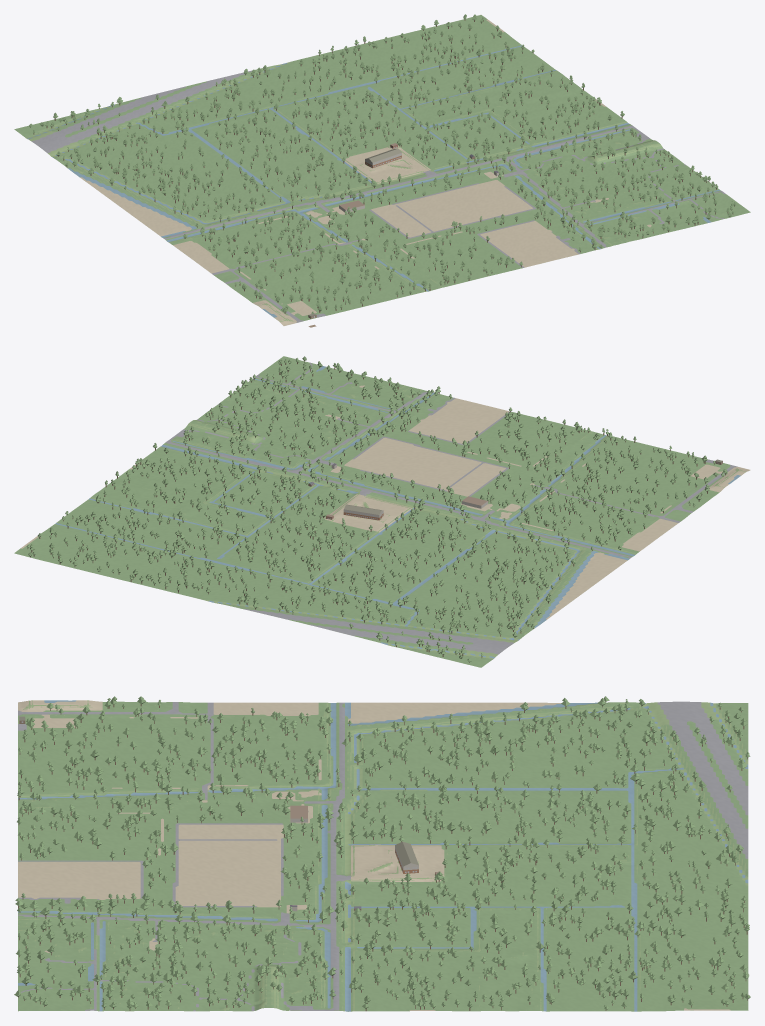
File: bosven-veghel_x331_y809.glb
3 renders of one model, top to bottom at view 1: azimuth 30°, elevation 25°; view 2: azimuth 150°, elevation 25°; view 3: azimuth 270°, elevation 25°, orthographic. The views are drawn at different scales.
Parts seen in each view (by area): view 1: class:green, class:tree, class:sand, class:road, class:grass, class:water, class:trunk; view 2: class:green, class:tree, class:sand, class:grass, class:road, class:water, class:trunk; view 3: class:green, class:tree, class:sand, class:road, class:grass, class:water, class:trunk, class:roof.
Part boxes in pixels (x1,y1,x2,y2): class:green: (14,15,750,320); class:tree: (28,14,736,313); class:sand: (80,19,651,325); class:road: (32,70,725,322); class:grass: (25,49,723,321); class:water: (27,45,720,317); class:trunk: (30,19,734,313); class:green: (14,356,730,667); class:tree: (27,356,727,661); class:sand: (20,385,750,619); class:grass: (86,365,746,660); class:road: (165,362,737,654); class:water: (55,366,740,658); class:trunk: (27,360,725,662); class:green: (18,701,748,1011); class:tree: (14,696,750,1009); class:sand: (18,700,730,1010); class:road: (18,701,748,1011); class:grass: (18,700,748,1011); class:water: (18,700,748,1011); class:trunk: (18,701,747,1011); class:roof: (19,716,440,908).
Bounding box in the file's own units: 504 × 19.48 × 505.
